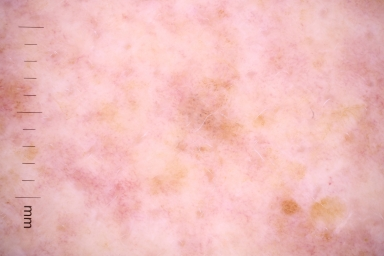nevus: (183, 93, 241, 143)
